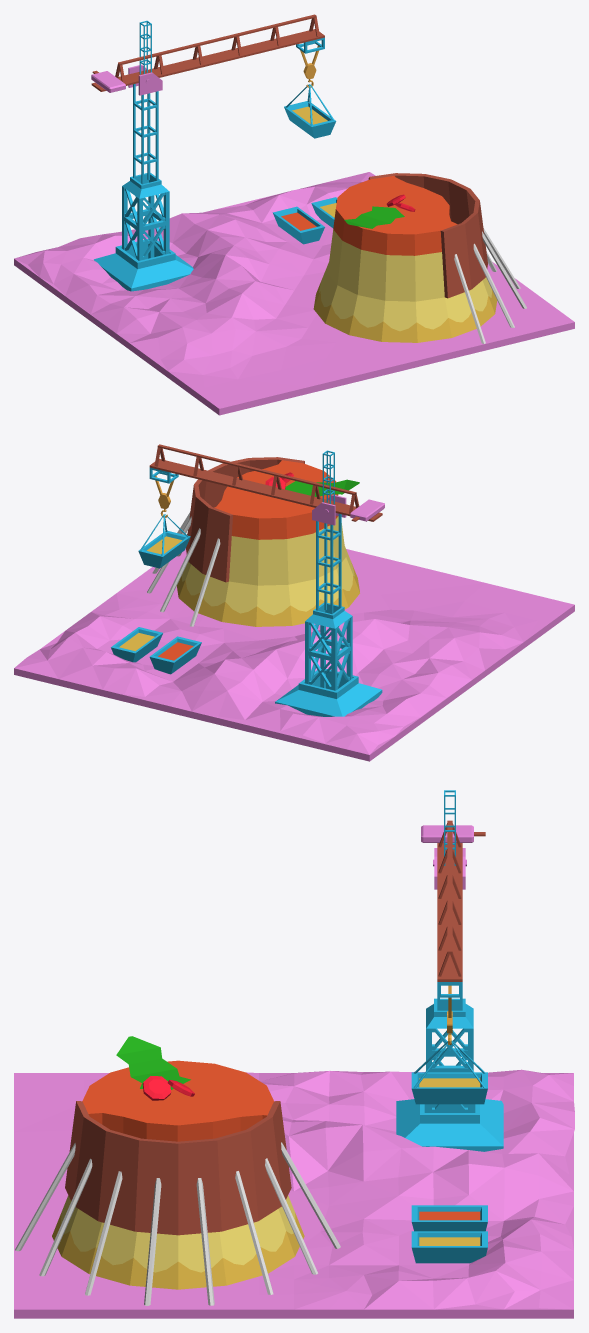
Rendered from D2_FLAN_IN_CONSTRUCTION.fbx.
3 renders of one model, top to bottom at view 1: azimuth 30°, elevation 25°; view 2: azimuth 150°, elevation 25°; view 3: azimuth 270°, elevation 25°, orthographic. The views are drawn at different scales.
Parts seen in each view (by area): view 1: Cube.098, Cylinder.129, Cube.077, Cylinder.131, Cube.078, Cube.086, Cube.079, Cylinder.132, Cube.087, Cube.085, Cube.095, Cube.096 (+3 smaller); view 2: Cube.098, Cylinder.129, Cube.077, Cylinder.131, Cube.078, Cube.086, Cube.079, Cube.085, Cube.087, Cylinder.132, Cube.095, Cube.096 (+6 smaller); view 3: Cube.098, Cylinder.129, Cylinder.131, Cube.077, Cylinder.132, Cube.078, Cube.086, Cube.094, Cube.096, Cube.095, Plane.041, Cube.087 (+4 smaller).
Part boxes in pixels (<box>): Cube.098: <box>14,172,574,408</box>; Cylinder.129: <box>313,176,497,342</box>; Cube.077: <box>14,194,574,415</box>; Cylinder.131: <box>368,173,487,298</box>; Cube.078: <box>94,239,193,291</box>; Cube.086: <box>91,29,324,91</box>; Cube.079: <box>122,186,169,260</box>; Cylinder.132: <box>454,228,526,343</box>; Cube.087: <box>115,14,319,83</box>; Cube.085: <box>133,84,158,184</box>; Cube.095: <box>272,206,324,244</box>; Cube.096: <box>284,101,336,138</box>; Cube.098: <box>14,549,573,754</box>; Cylinder.129: <box>177,460,359,626</box>; Cube.077: <box>14,548,574,761</box>; Cylinder.131: <box>186,457,304,582</box>; Cube.078: <box>275,669,382,716</box>; Cube.086: <box>149,459,382,521</box>; Cube.079: <box>305,616,352,690</box>; Cube.085: <box>316,513,341,613</box>; Cube.087: <box>154,444,359,513</box>; Cylinder.132: <box>147,512,220,626</box>; Cube.095: <box>149,636,201,674</box>; Cube.096: <box>138,531,190,568</box>; Cube.098: <box>14,1069,574,1309</box>; Cylinder.129: <box>52,1060,304,1289</box>; Cylinder.131: <box>65,1101,291,1235</box>; Cube.077: <box>14,1073,573,1318</box>; Cylinder.132: <box>15,1142,340,1305</box>; Cube.078: <box>396,1099,503,1151</box>; Cube.086: <box>437,843,462,981</box>; Cube.094: <box>411,1231,487,1263</box>; Cube.096: <box>411,1072,487,1104</box>; Cube.095: <box>411,1205,487,1231</box>; Plane.041: <box>116,1036,190,1089</box>; Cube.087: <box>438,820,461,976</box>.
Bounding box in the file's own units: 2001 × 1366 × 2004.
